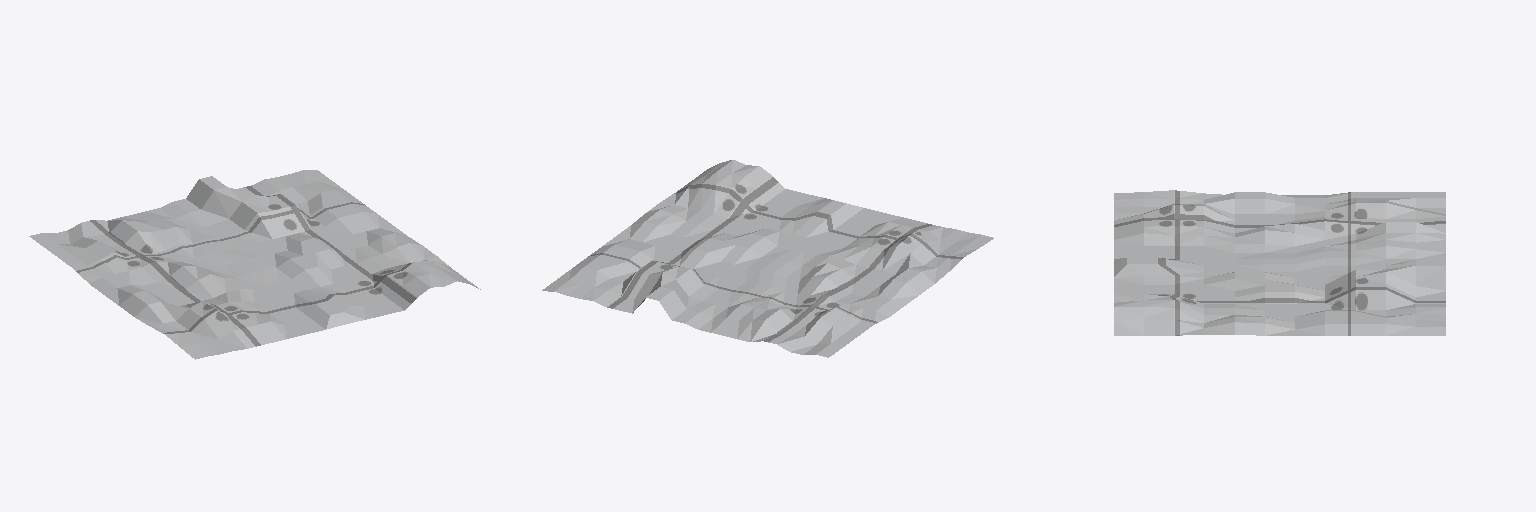
3 views of the same model, side by side, from view 1: azimuth 30°, elevation 25°; view 2: azimuth 150°, elevation 25°; view 3: azimuth 270°, elevation 25° (orthographic).
Visible parts, largest first — view 1: ground; view 2: ground; view 3: ground.
Part boxes in pixels (x1,y1,x2,y2): ground: (29, 170, 480, 359); ground: (542, 160, 993, 357); ground: (1114, 190, 1445, 335).
Bounding box in the file's own units: 1326 × 84.32 × 1326.
Materials: 1 (1 with a texture image).